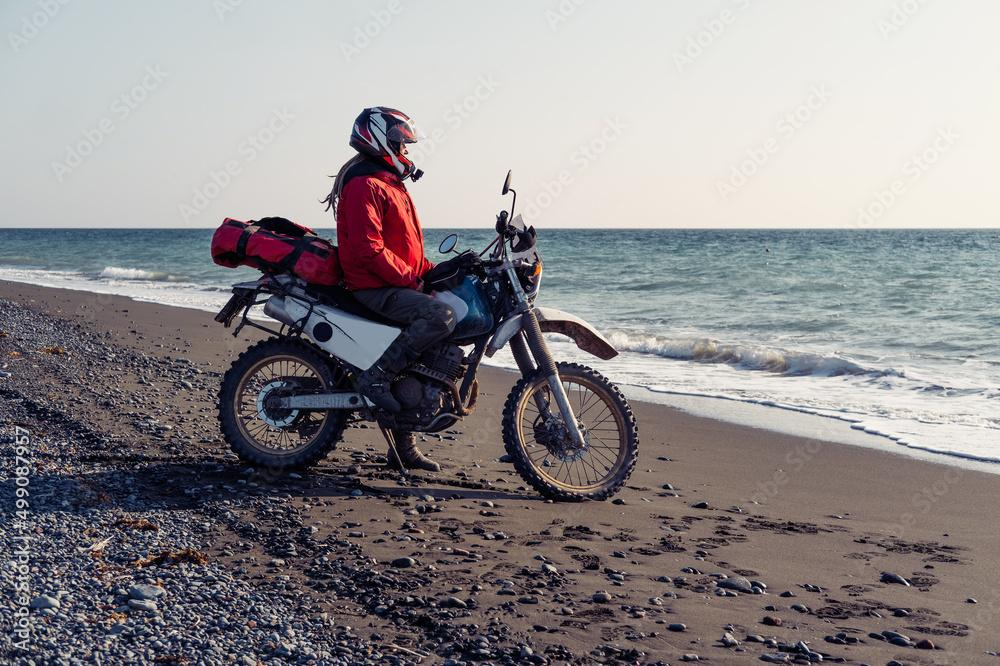helmet: (349, 105, 425, 183)
